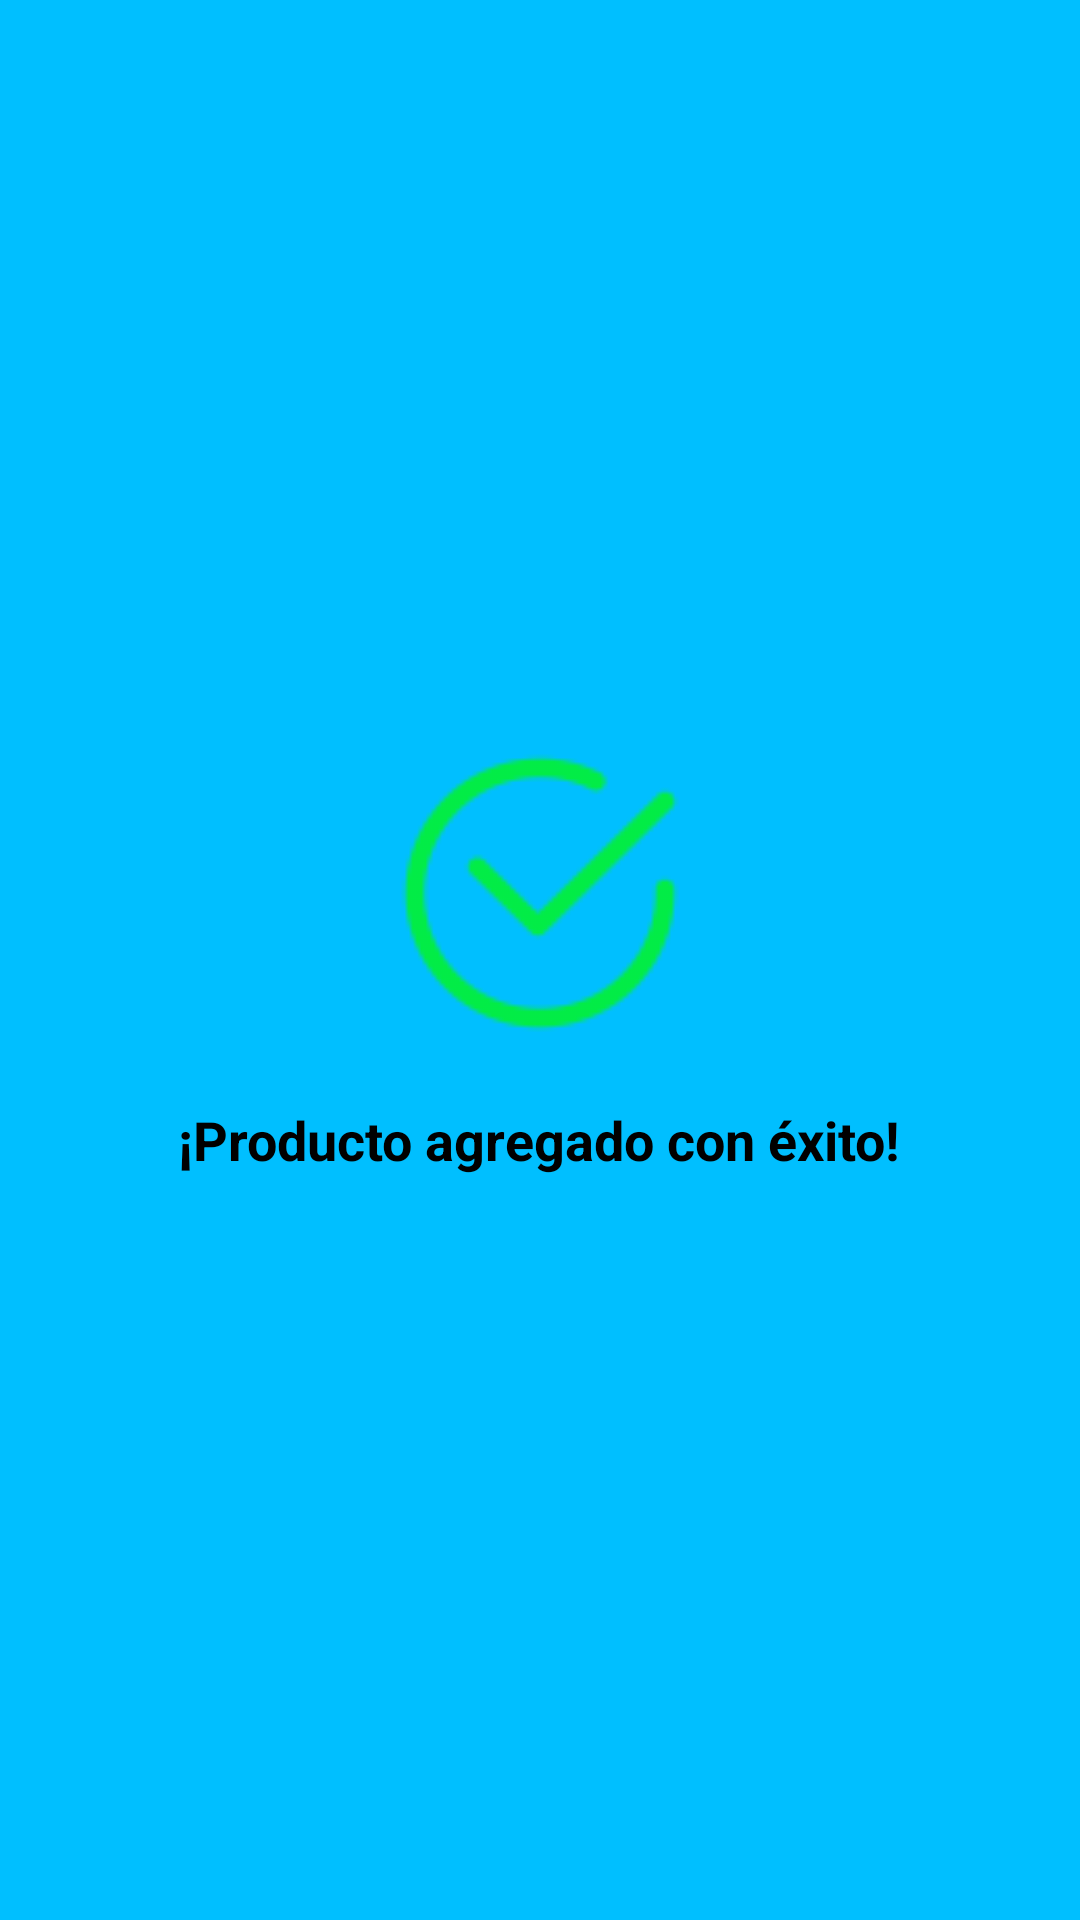

Where to tap for icons on this 1080px x 1920px app screen, as (x=x, y=y):
success: (x=540, y=893)
